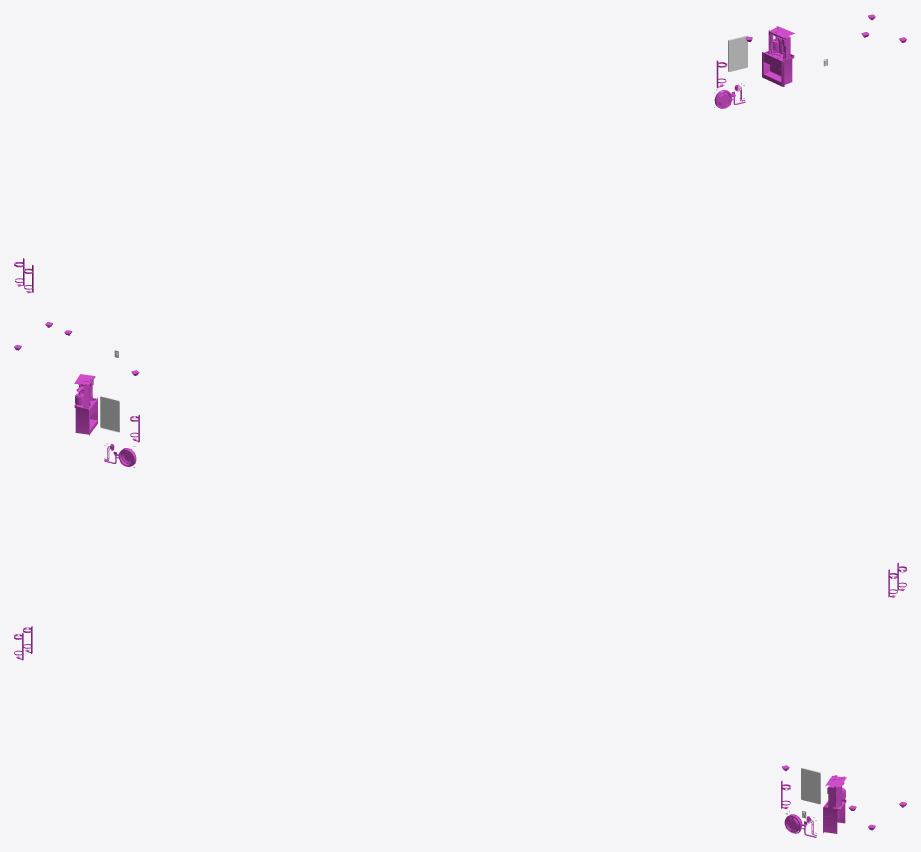
File: Vagon_SkewCorridor_Eqipment_01.fbx
3 views of the same model, one above another, from view 1: azimuth 30°, elevation 25°; view 2: azimuth 150°, elevation 25°; view 3: azimuth 330°, elevation 25° (orthographic).
Visible parts, largest first — view 1: Vagon_SkewCorridor_Eqipment_01; view 2: Vagon_SkewCorridor_Eqipment_01; view 3: Vagon_SkewCorridor_Eqipment_01.
Part boxes in pixels (x1,y1,x2,y2): Vagon_SkewCorridor_Eqipment_01: [14, 14, 906, 293]; Vagon_SkewCorridor_Eqipment_01: [14, 322, 906, 597]; Vagon_SkewCorridor_Eqipment_01: [14, 626, 906, 837].
Bounding box in the file's own units: 21.06 × 1.86 × 2.25.
